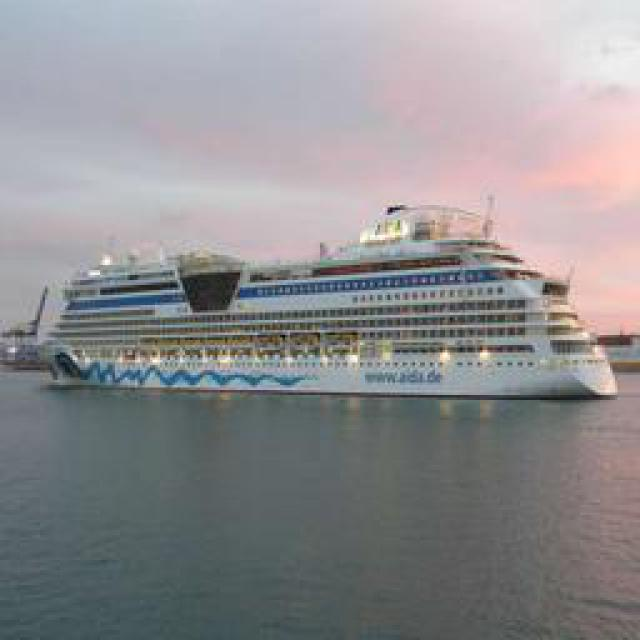Ship: (35, 187, 620, 397)
